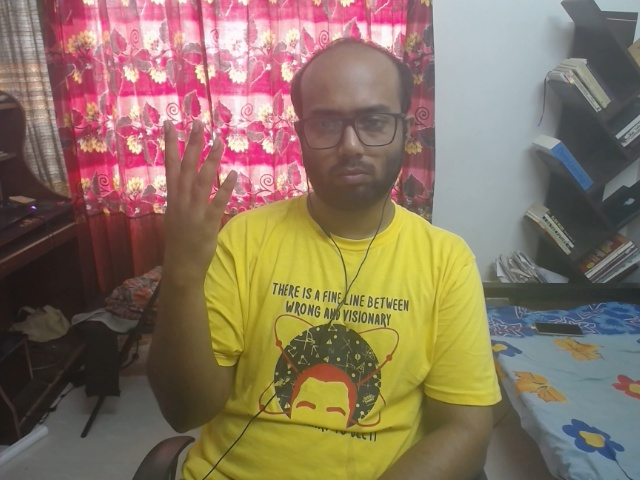five: (136, 109, 261, 287)
